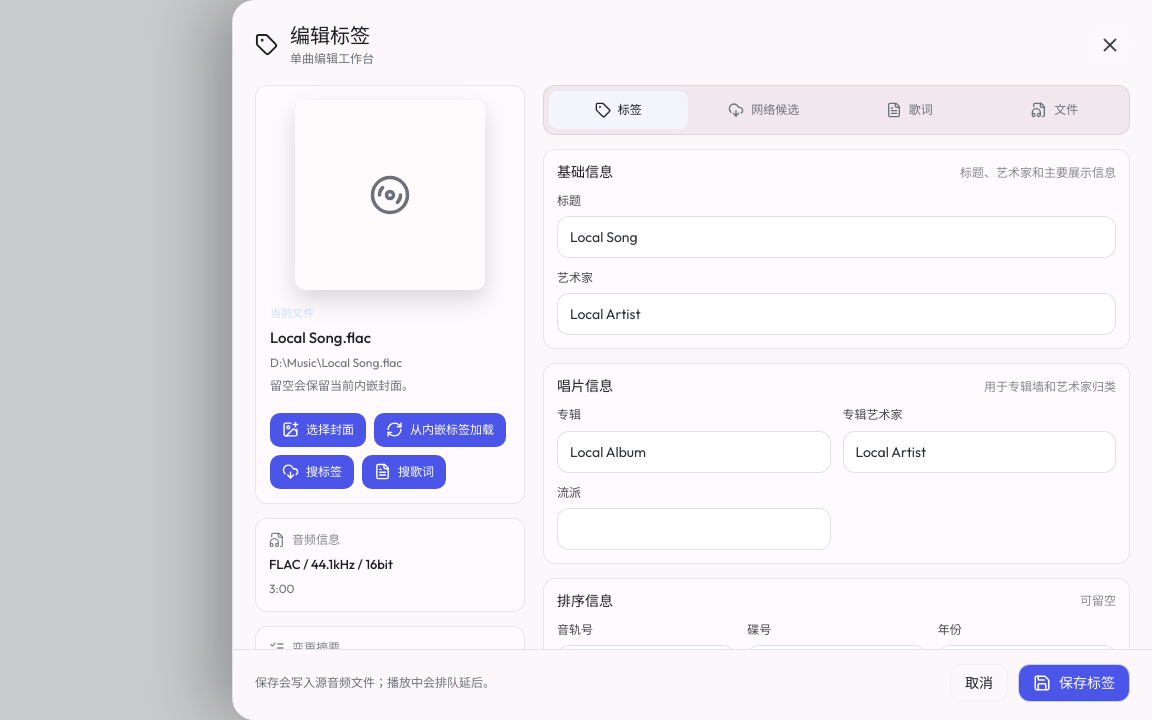
Scenario: TrackTagEditorDrawer network tags › selecting a network candidate shows comparison, updates the visible form, and does not save the file
Click the tab "网络候选" at (764,110), box [694, 91, 833, 129]
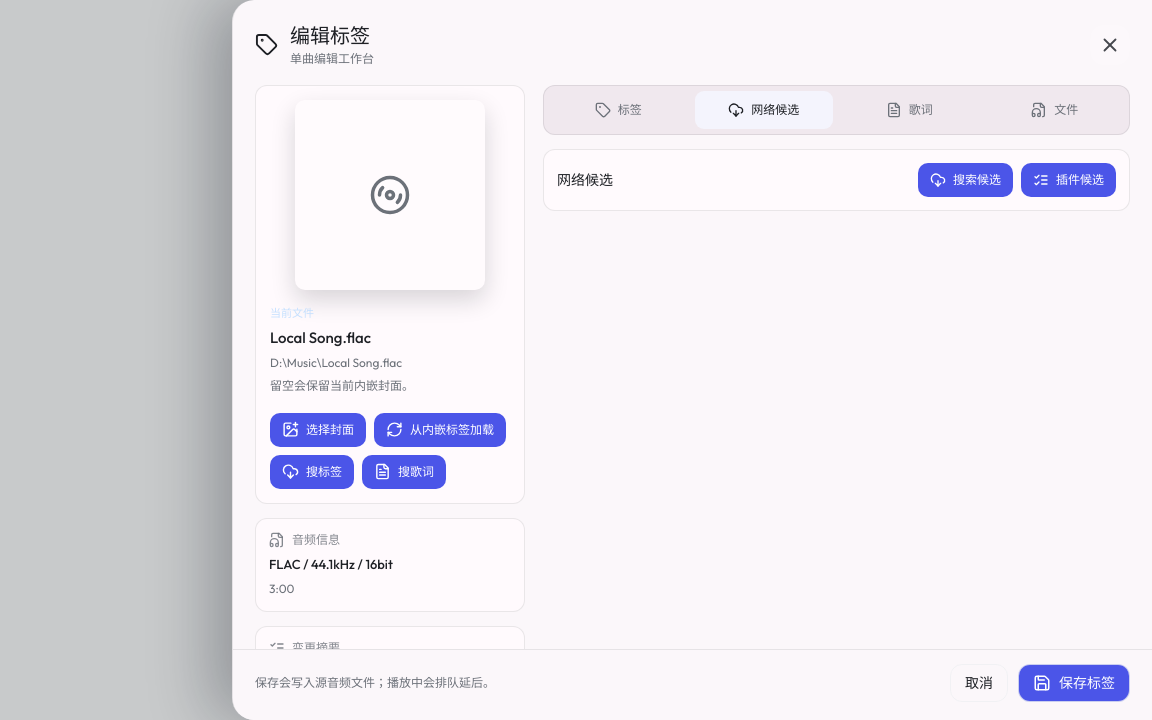
Click the button "搜索候选" at (966,180), box [918, 163, 1013, 197]
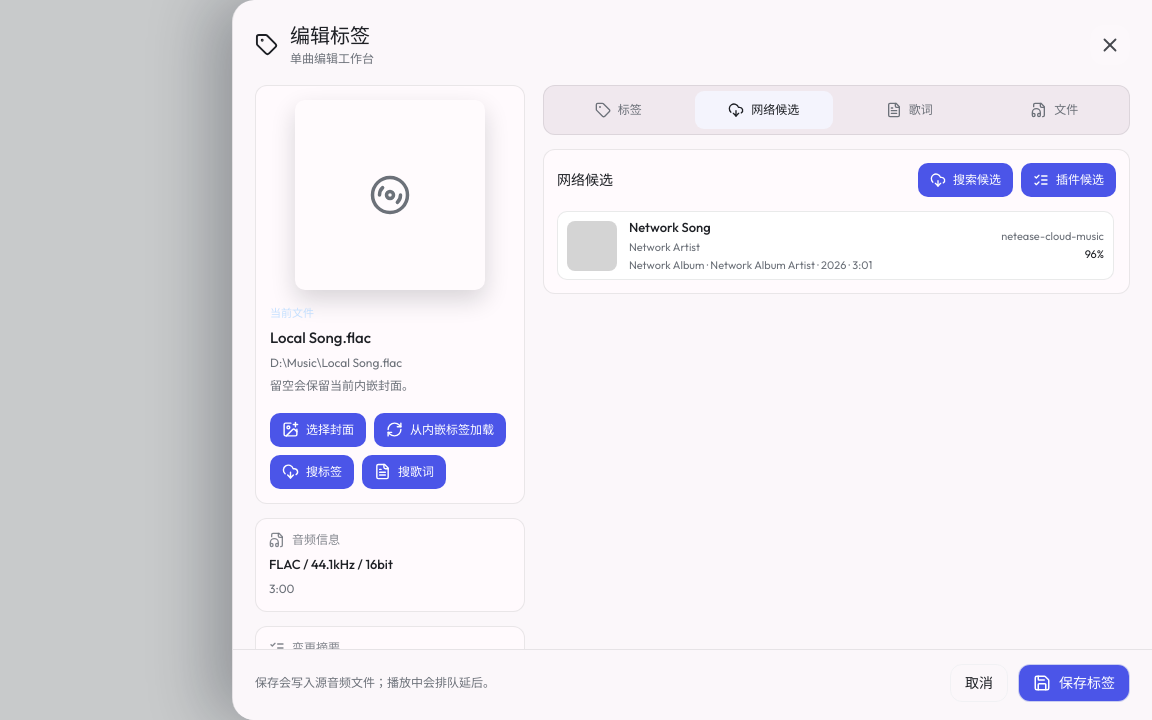
Result: the text "Network Song" is shown
Click the text "Network Song" at (670,227), box [629, 219, 711, 235]
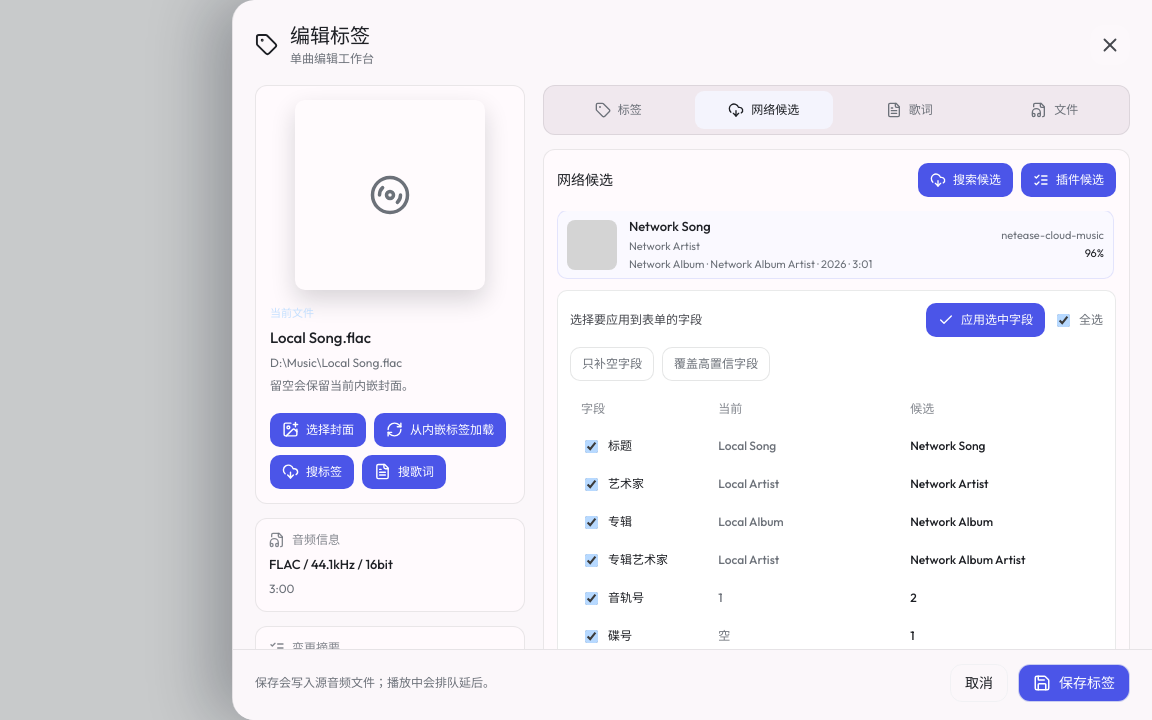
Result: the text "当前" is shown at [718, 401, 742, 416]
Result: the text "候选" is shown at [910, 401, 934, 416]
Result: the text "Local Song" is shown at [718, 438, 776, 453]
Click the button "应用选中字段" at (986,320), box [926, 303, 1045, 337]
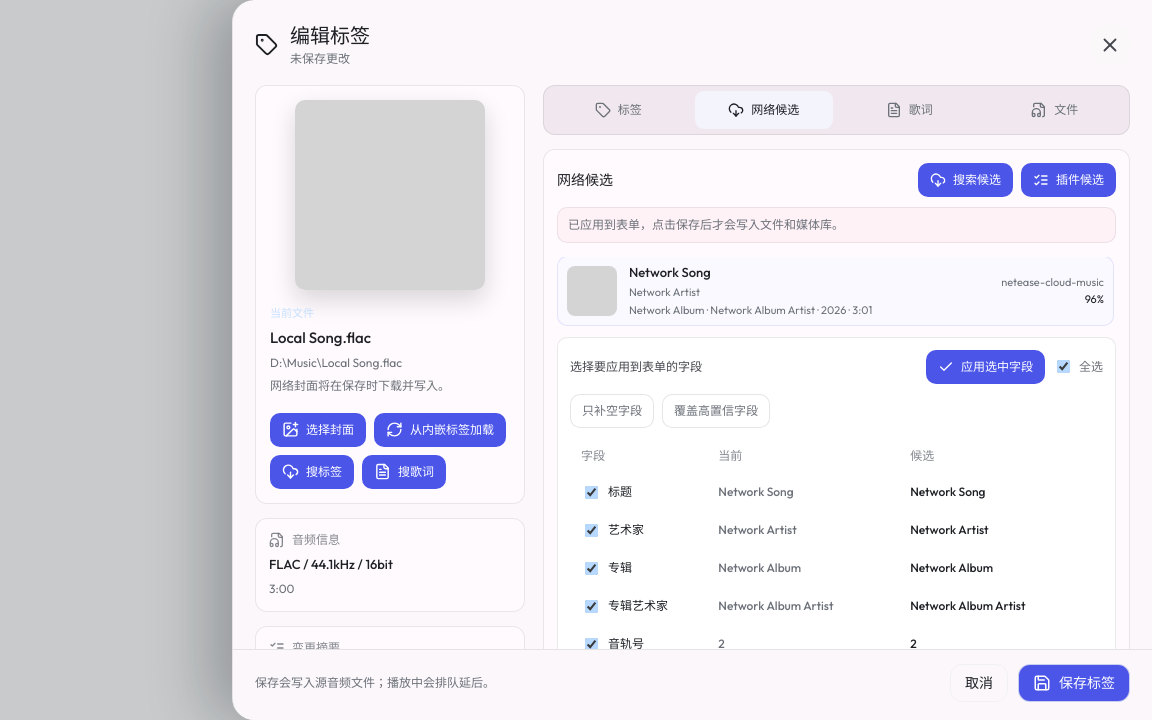
Result: the text "已应用到表单，点击保存后才会写入文件和媒体库。" is shown at [557, 207, 1116, 243]
Click the tab "标签" at (618,110), box [549, 91, 688, 129]
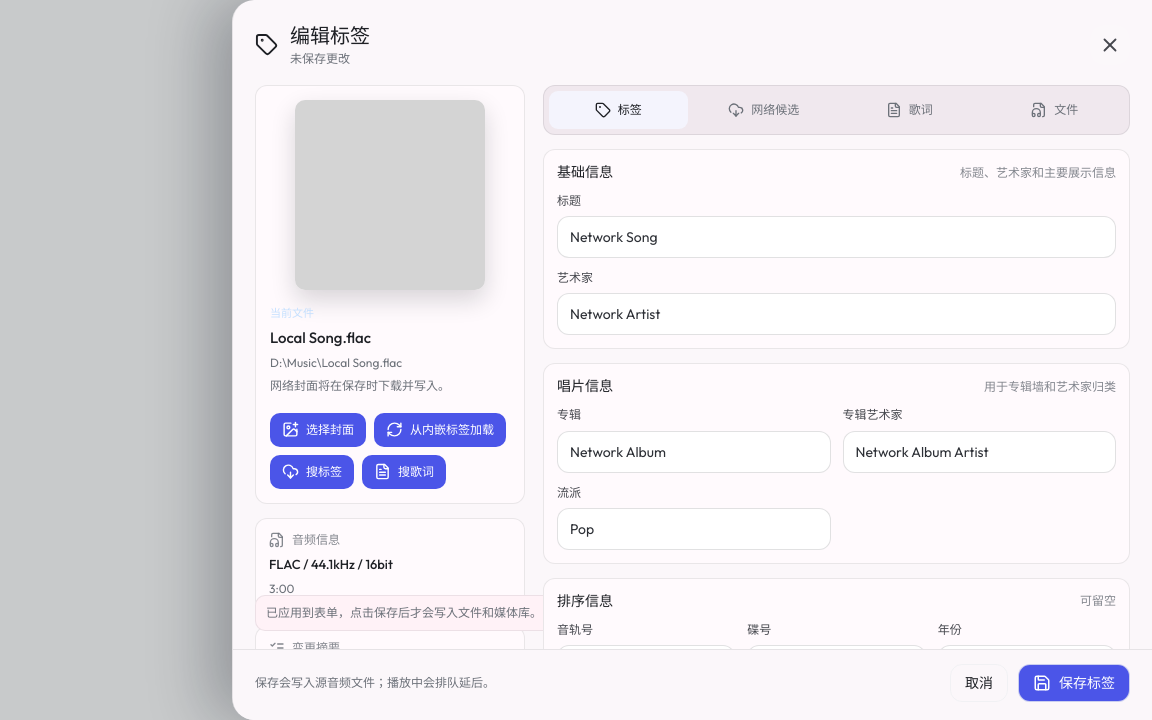
Result: the field labelled "标题" holds "Network Song" at [557, 216, 1116, 258]
